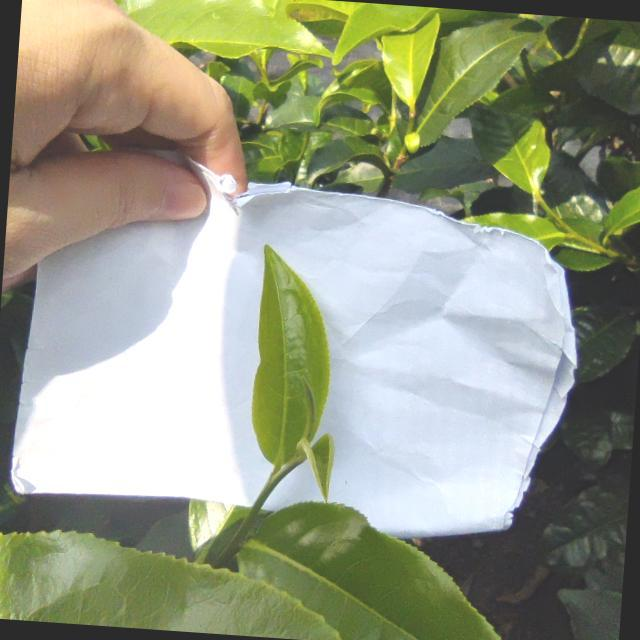Stem: (265, 480, 277, 492)
